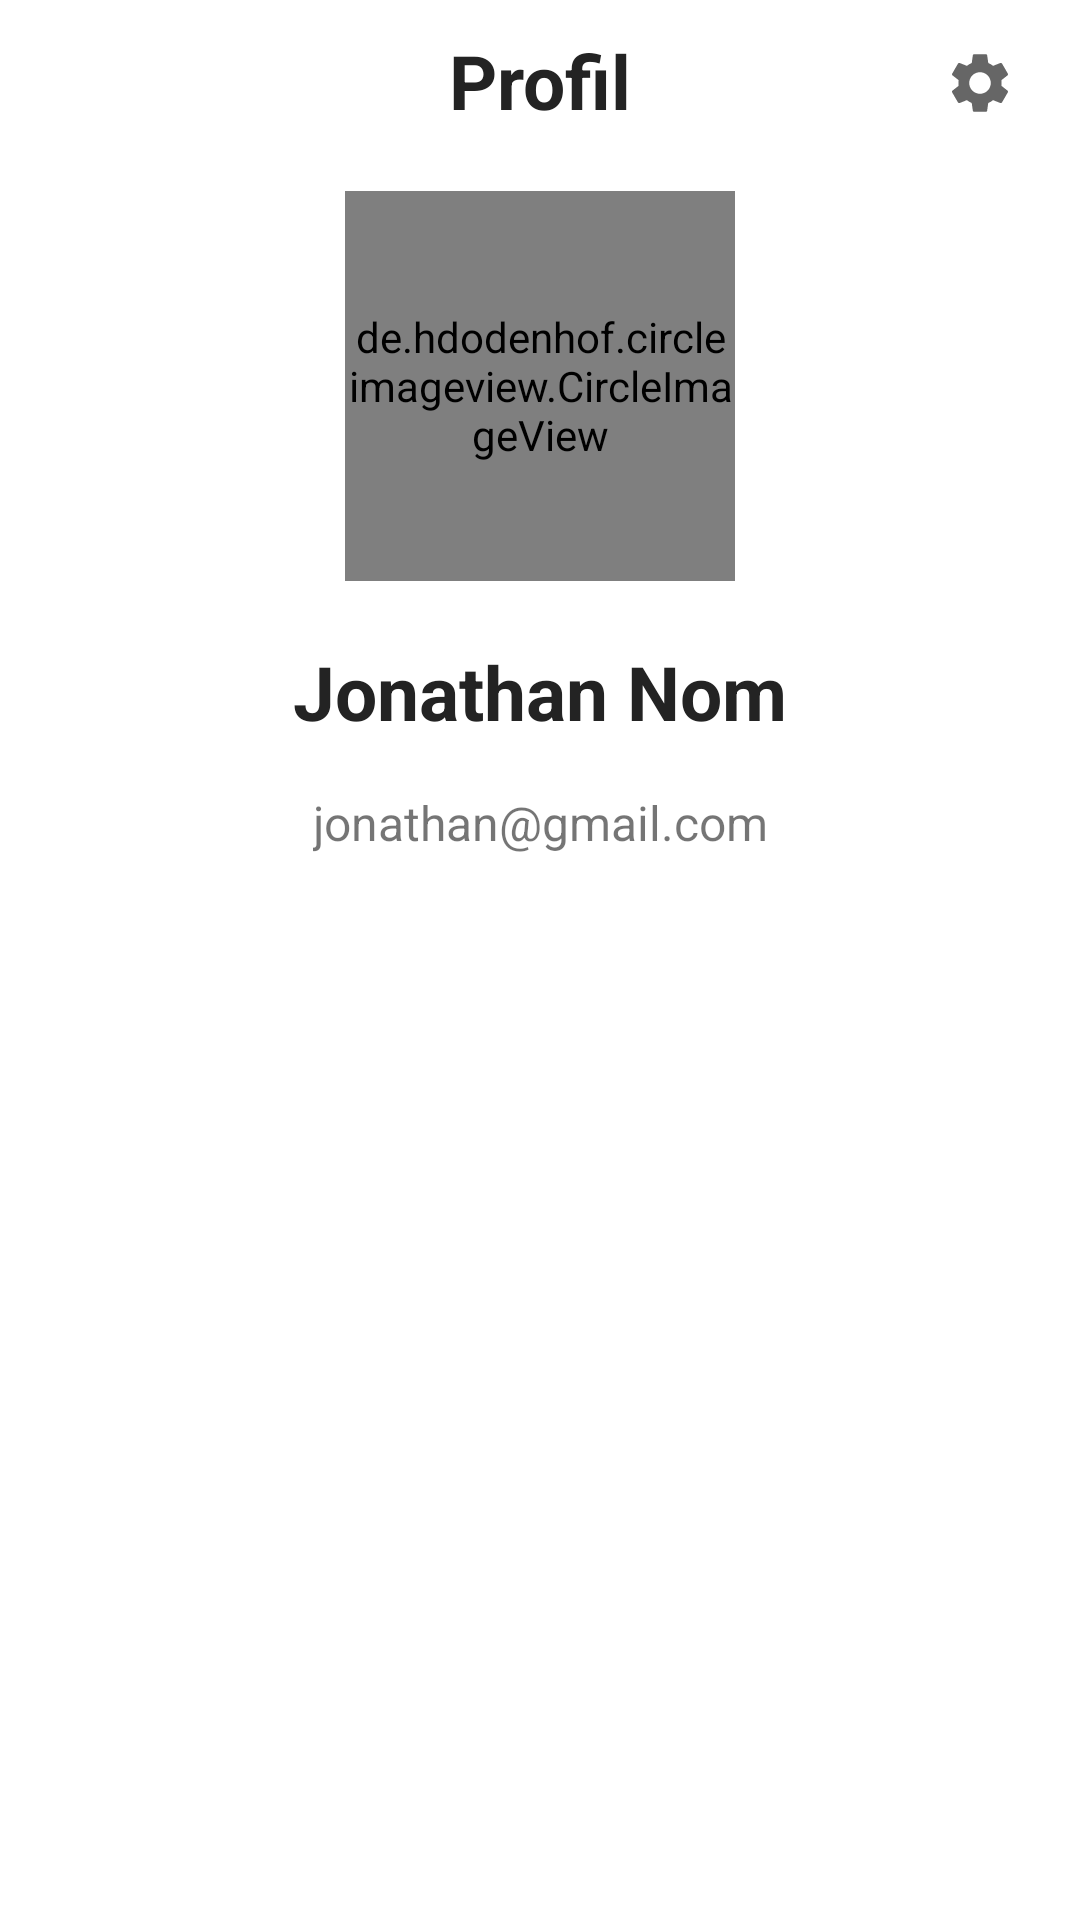

Icons on this 1080px×1920px Android screen, each with its box as (x1, y1, x2, y2):
settings: (952, 54, 1008, 112)
